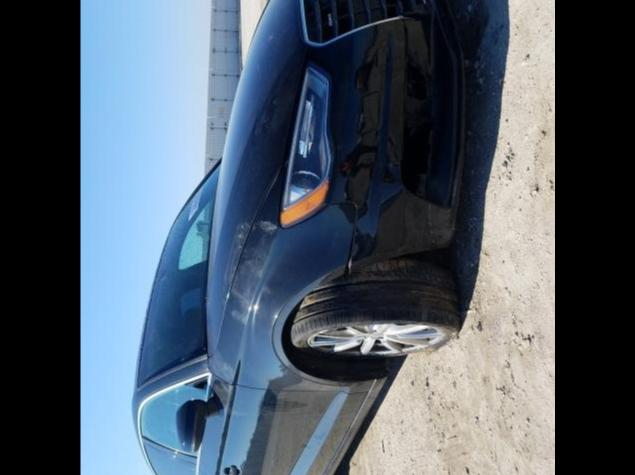Broken part: (346, 232, 356, 272)
Dent: (378, 193, 454, 251)
Scratch: (449, 163, 462, 232), (423, 204, 438, 245), (393, 243, 414, 257), (417, 171, 427, 197), (342, 192, 348, 199)
